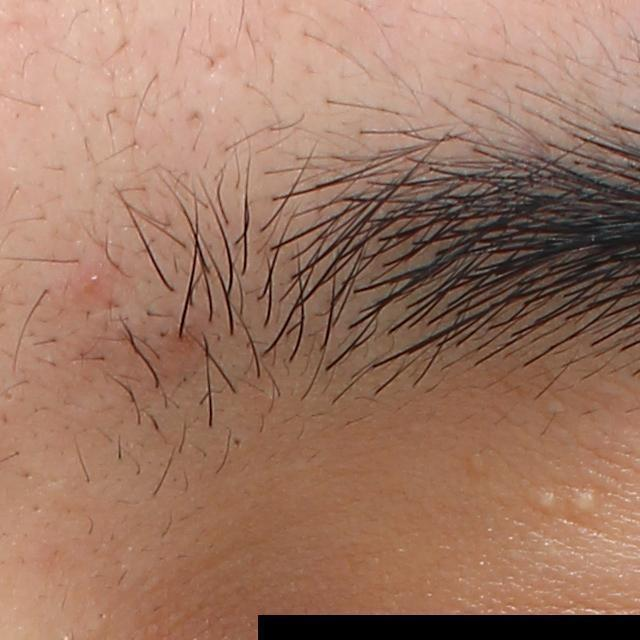other: (574, 489, 598, 517), (536, 492, 557, 513)
